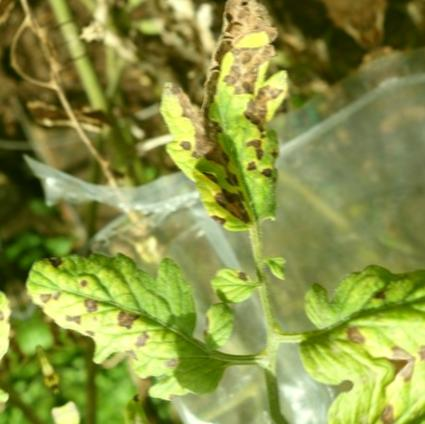Tomato Septoria leaf spot: (117, 0, 352, 255), (9, 197, 255, 424), (269, 229, 425, 401)
